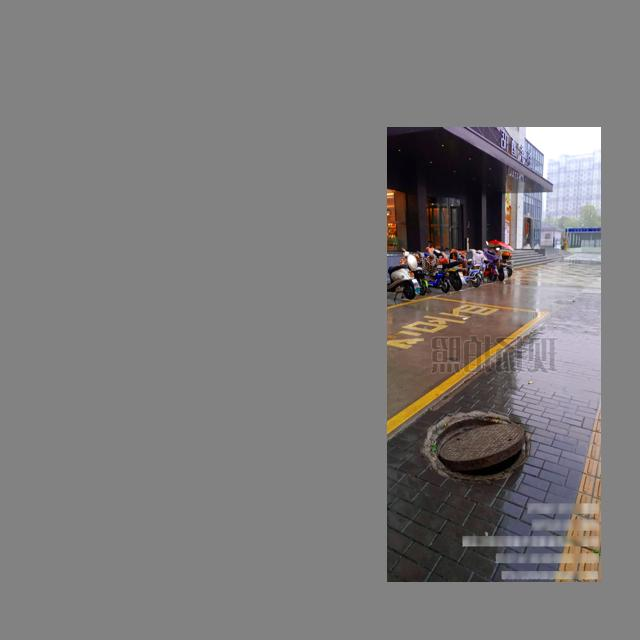uncovered: (428, 409, 530, 479)
